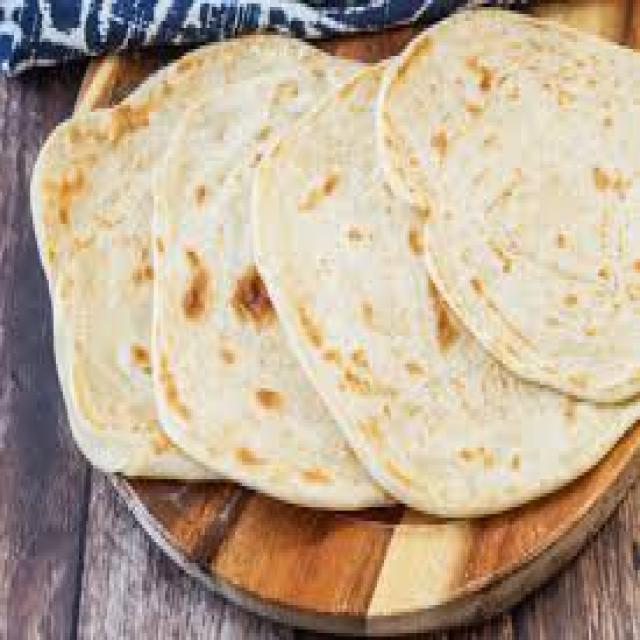chapathi: (53, 72, 640, 530)
